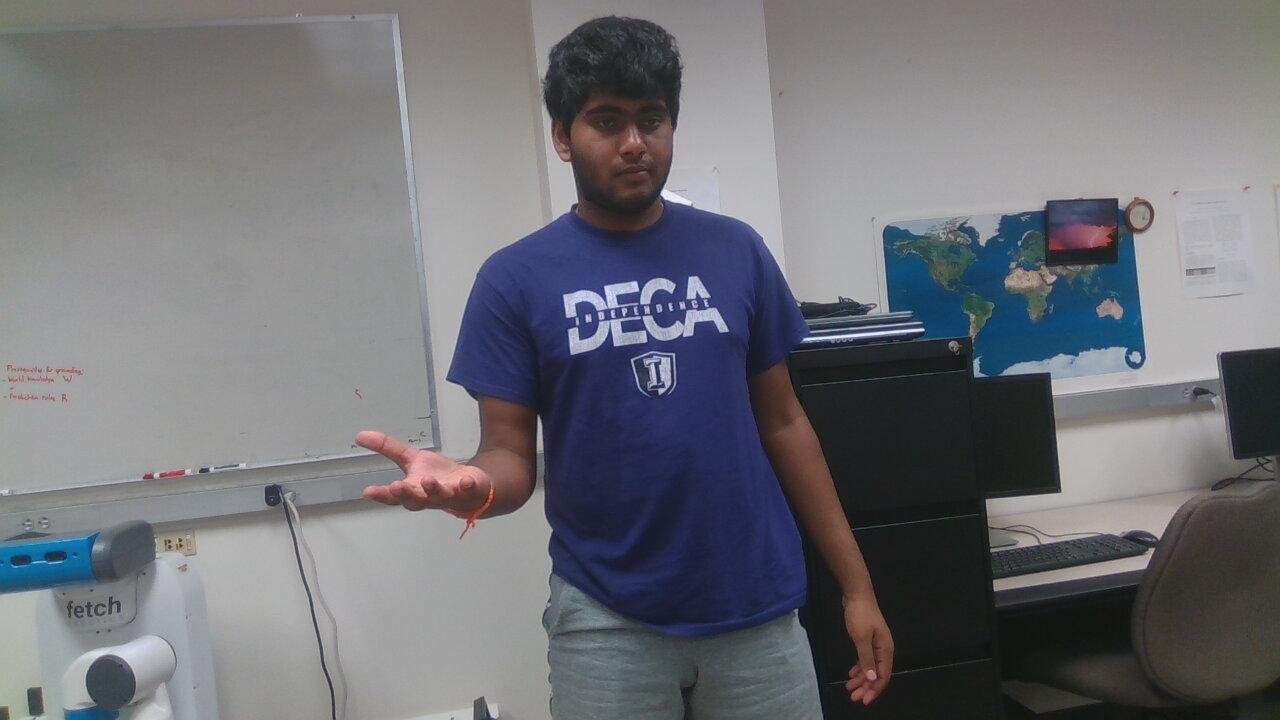hands: (343, 414, 497, 531), (831, 602, 922, 714)
